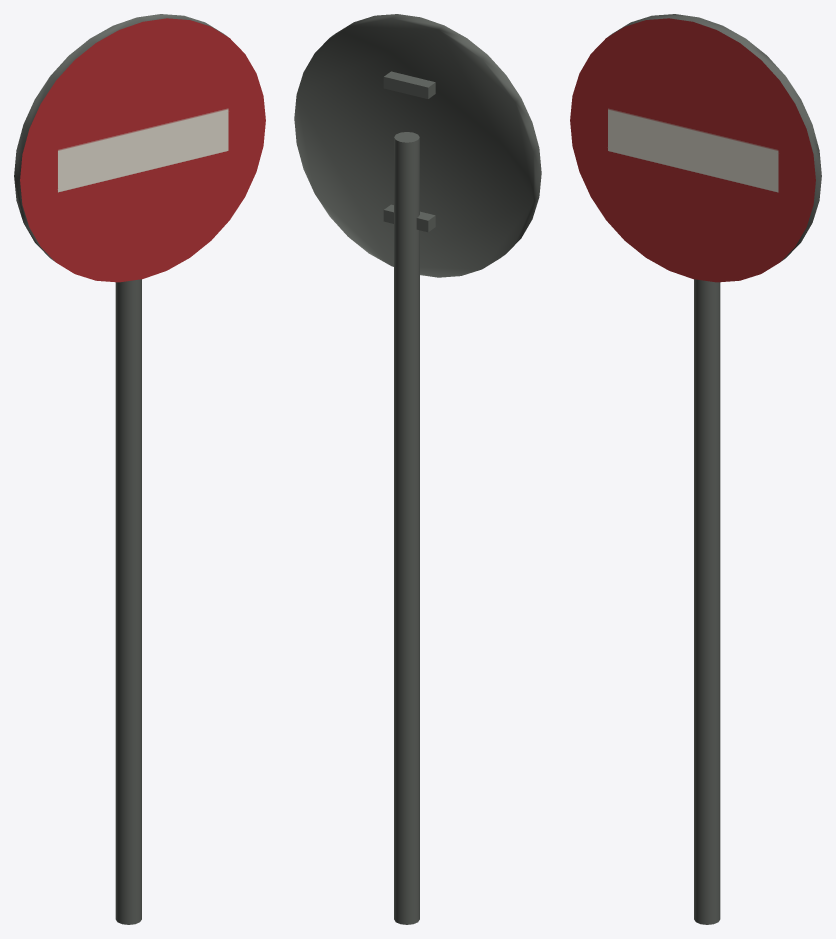
The model's file is MS_SG_03_NoEntry.glb.
3 renders of one model, left to right at view 1: azimuth 30°, elevation 25°; view 2: azimuth 150°, elevation 25°; view 3: azimuth 330°, elevation 25°, orthographic.
Parts seen in each view (by area): view 1: SignFace, _MeshInstance3D_16, _MeshInstance3D_18; view 2: _MeshInstance3D_18, _MeshInstance3D_16, _MeshInstance3D_20, _MeshInstance3D_19; view 3: SignFace, _MeshInstance3D_16, _MeshInstance3D_18.
Part boxes in pixels (x1,y1,x2,y2): SignFace: (20, 18, 265, 282); _MeshInstance3D_16: (115, 279, 141, 924); _MeshInstance3D_18: (14, 14, 227, 261); _MeshInstance3D_18: (294, 14, 541, 277); _MeshInstance3D_16: (394, 132, 419, 924); _MeshInstance3D_20: (383, 71, 435, 98); _MeshInstance3D_19: (383, 204, 435, 232); SignFace: (570, 18, 815, 282); _MeshInstance3D_16: (694, 279, 720, 924); _MeshInstance3D_18: (608, 14, 821, 261).
Size of the model in its own units: 0.7594 by 2.68 by 0.111.
2 materials, 1 textured.
